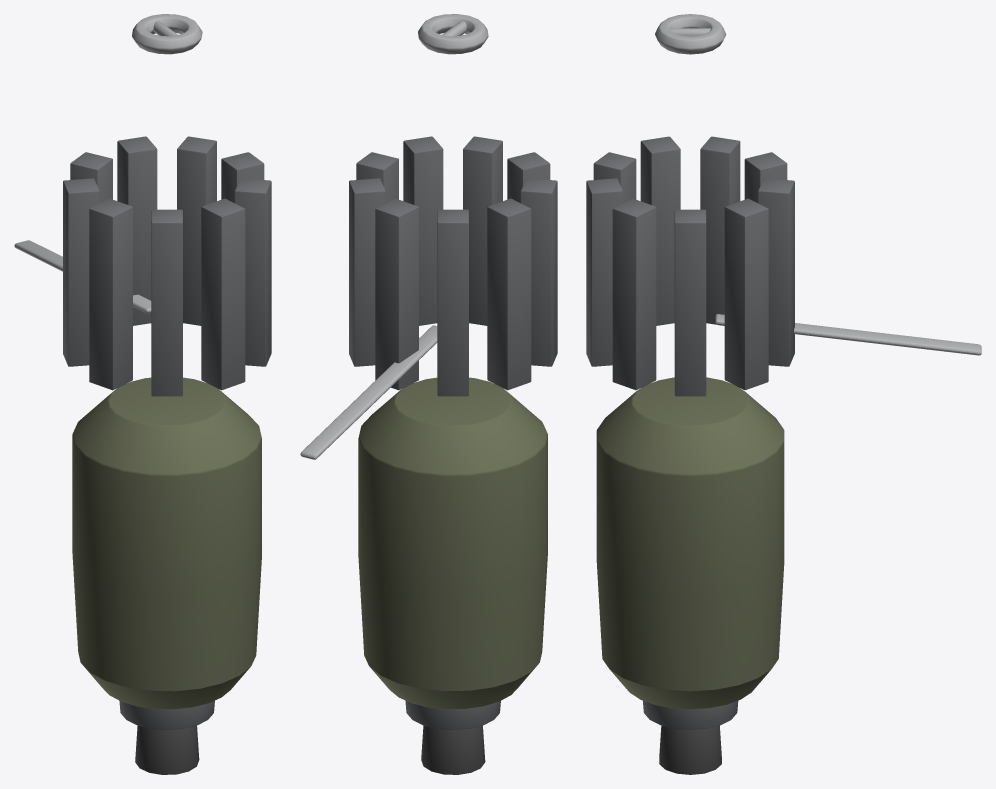
File: grenade_frag.fbx
3 renders of one model, left to right at view 1: azimuth 30°, elevation 25°; view 2: azimuth 150°, elevation 25°; view 3: azimuth 270°, elevation 25°, orthographic.
Parts seen in each view (by area): view 1: grenade_frag; view 2: grenade_frag; view 3: grenade_frag.
Part boxes in pixels (x1,y1,x2,y2): grenade_frag: (14, 14, 271, 774); grenade_frag: (300, 14, 557, 774); grenade_frag: (586, 14, 981, 774).
Size of the model in its own units: 0.065 by 0.2566 by 0.1251.
